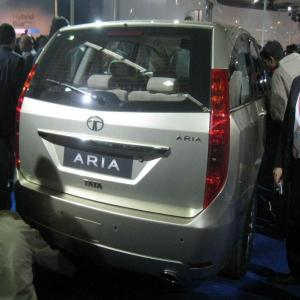Vehicle-registration-plate: (57, 142, 141, 185)
